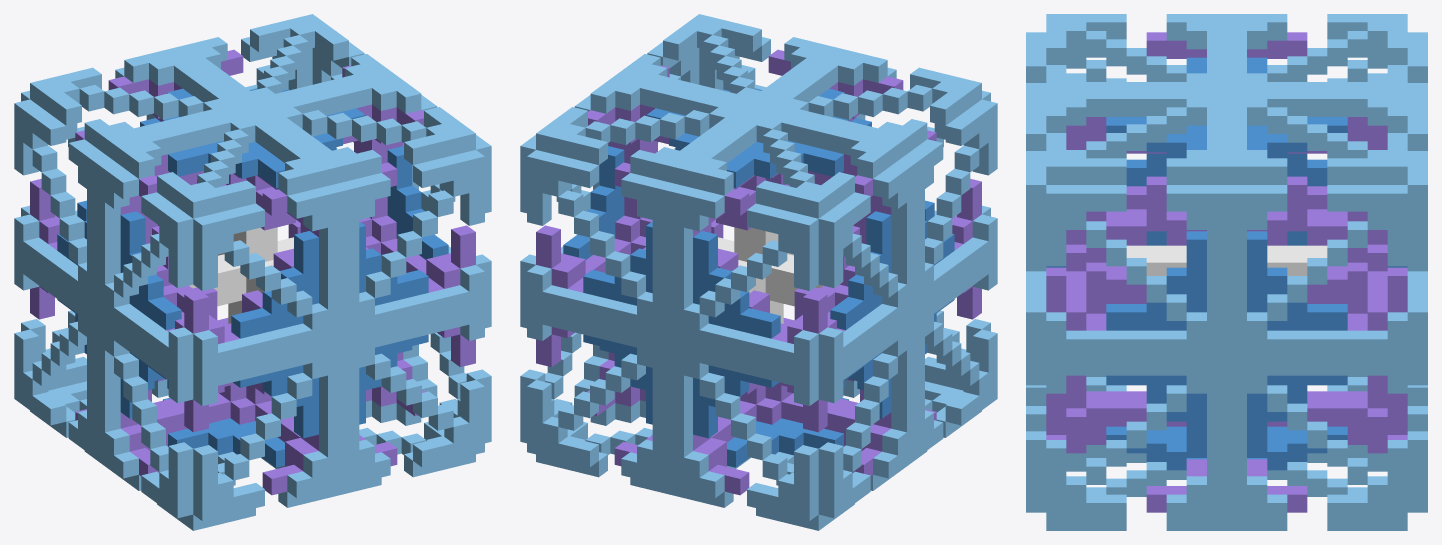
File: FrostCube.obj
3 views of the same model, side by side, from view 1: azimuth 30°, elevation 25°; view 2: azimuth 150°, elevation 25°; view 3: azimuth 270°, elevation 25° (orthographic). The views are drawn at different scales.
Bounding box in the file's own units: 2 × 2 × 2.
1 material, 1 textured.
